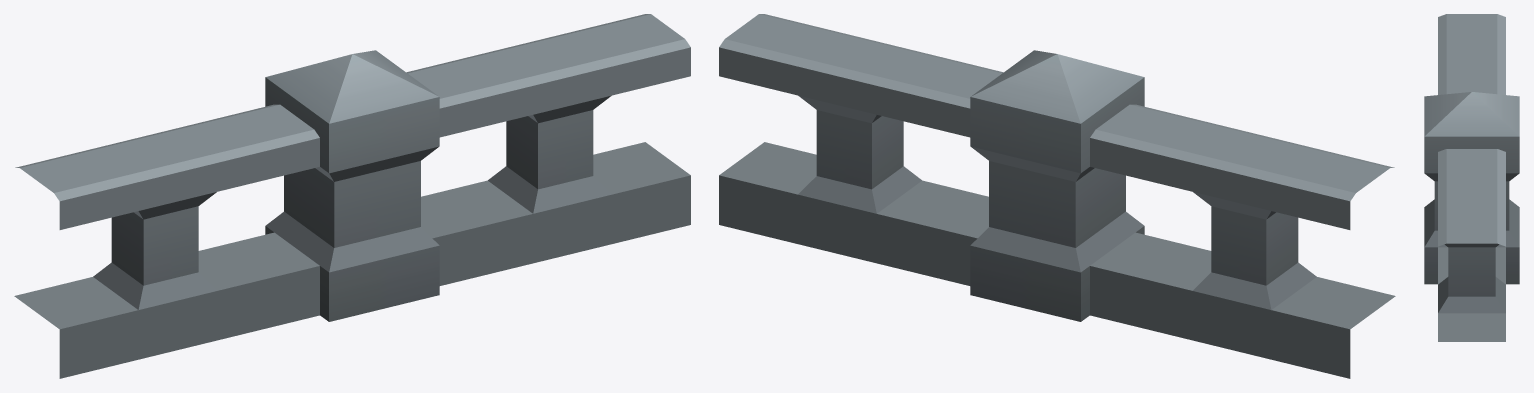
Rendered from d_kaykit_borne.glb.
3 views of the same model, side by side, from view 1: azimuth 30°, elevation 25°; view 2: azimuth 150°, elevation 25°; view 3: azimuth 270°, elevation 25° (orthographic). The views are drawn at different scales.
Visible parts, largest first — view 1: d_kaykit_borne; view 2: d_kaykit_borne; view 3: d_kaykit_borne.
Boxes of the visible parts, bbox=[...] form: d_kaykit_borne: bbox=[14, 14, 690, 378]; d_kaykit_borne: bbox=[719, 14, 1395, 378]; d_kaykit_borne: bbox=[1424, 14, 1519, 341].
Bounding box in the file's own units: 4 × 1.4 × 0.6997.
Materials: 1 (1 with a texture image).
